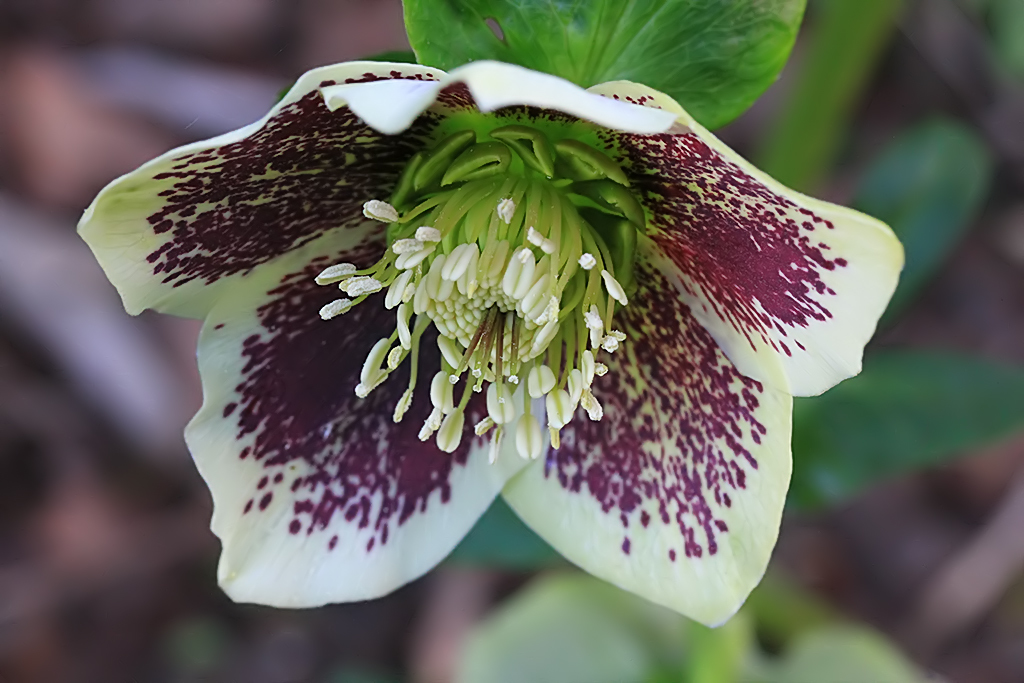person: (2, 0, 430, 218)
